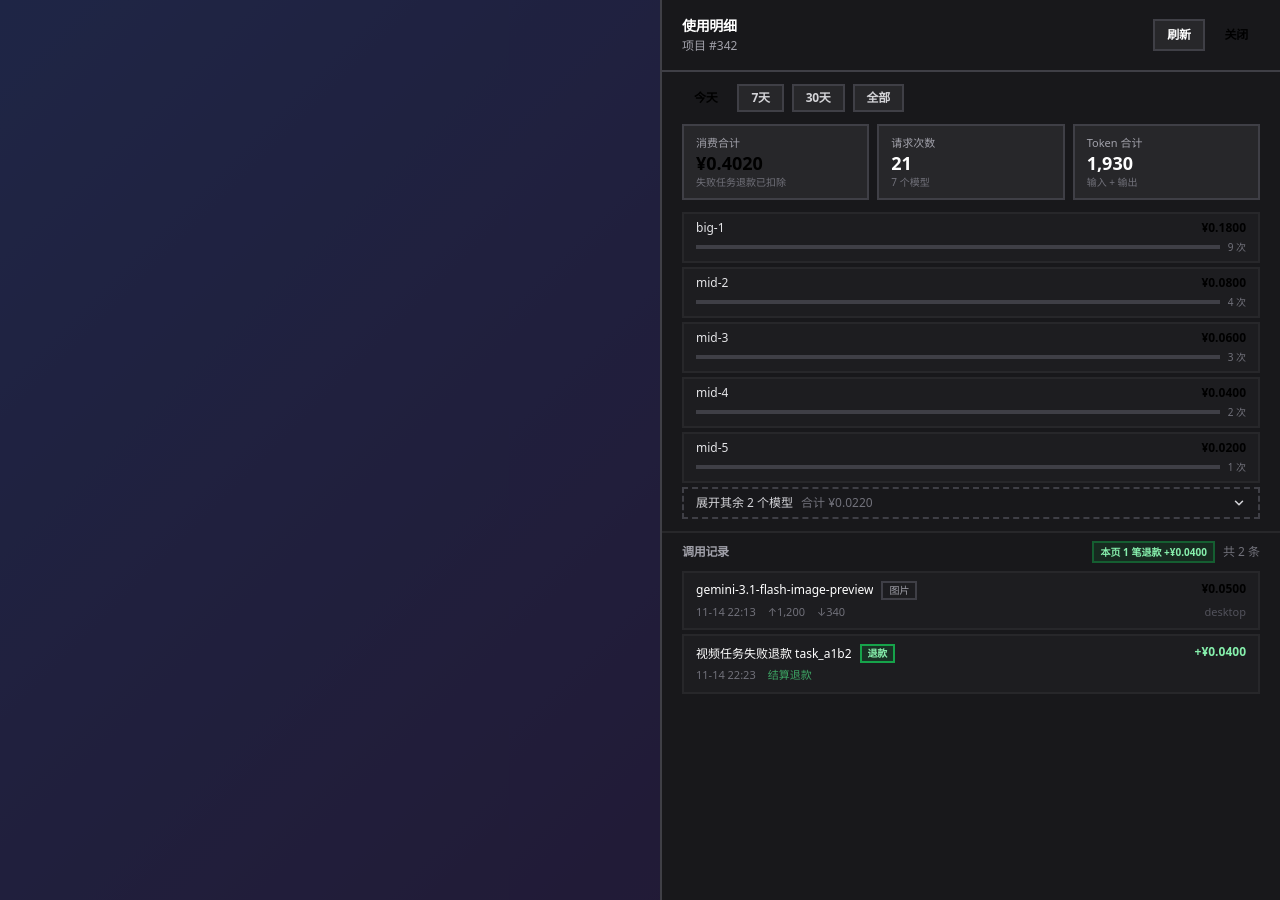
Test: UsageDrawer › 按模型汇总的折叠 › 点「展开」后全部露出、按钮变「收起」;再点收回
Expected: the number of elements with test id "usage-summary-model" is 5, [682,212,1260,263]; [682,267,1260,318]; [682,322,1260,373]; [682,377,1260,428]; [682,432,1260,483]
Click the button with test id "usage-summary-toggle": click(745, 502) [682,487,1260,519]
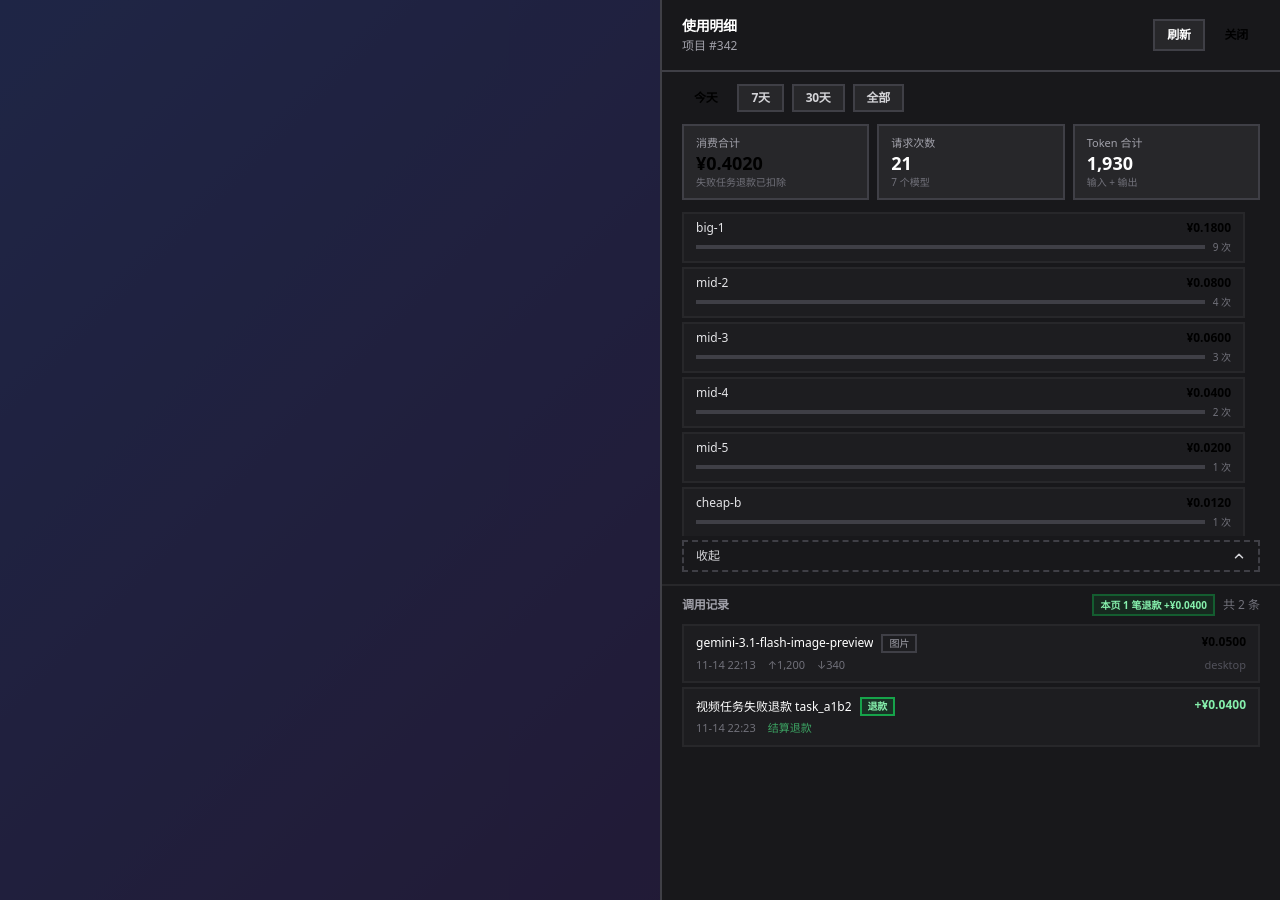
Expected: the element with test id "usage-summary-toggle" does not show "合计"
Result: the button with test id "usage-summary-toggle" is expanded
Result: the button with test id "usage-summary-toggle" reads "收起"
Click the button with test id "usage-summary-toggle": click(708, 555) [682,540,1260,572]
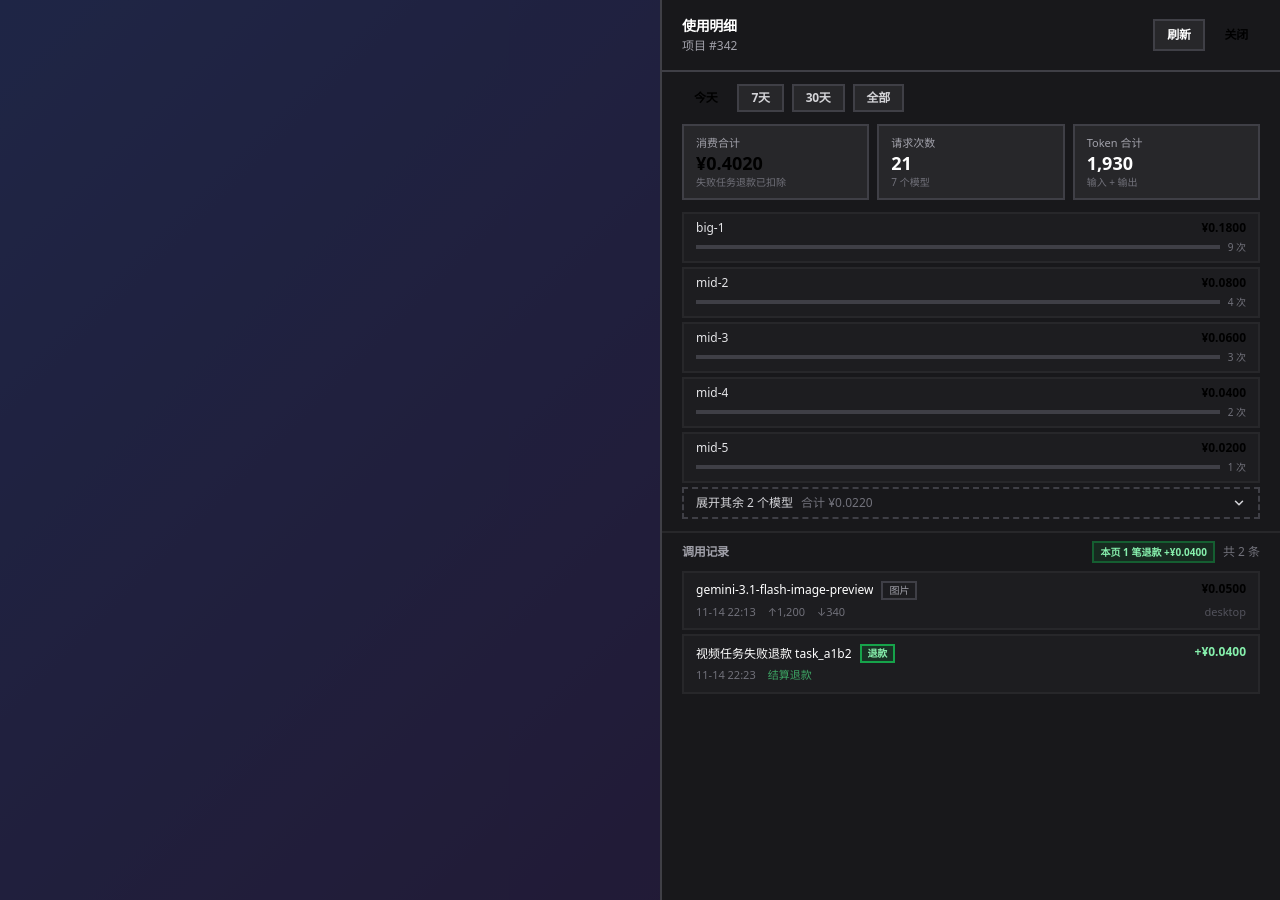
Result: the number of elements with test id "usage-summary-model" is 5 at [682,212,1260,263]; [682,267,1260,318]; [682,322,1260,373]; [682,377,1260,428]; [682,432,1260,483]
